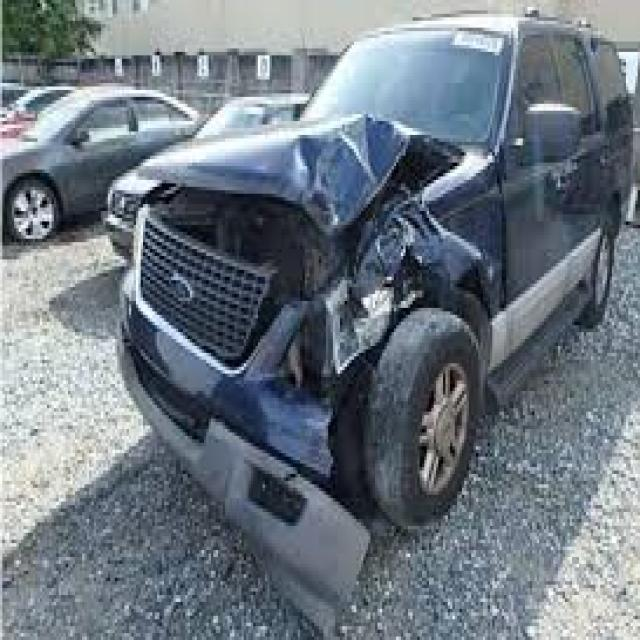moderate: (175, 145, 435, 394)
